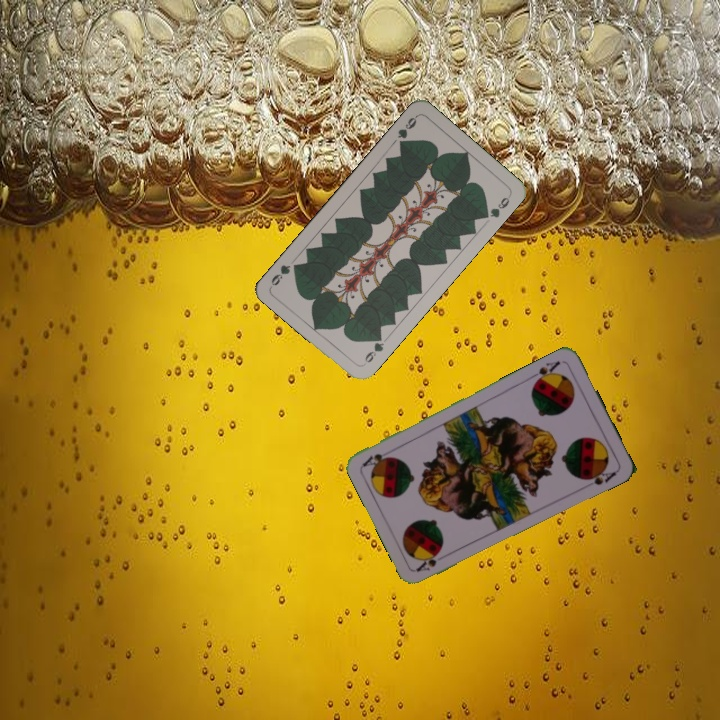G9: (393, 112, 420, 150), (360, 330, 386, 368)
SA: (527, 357, 563, 386), (412, 548, 443, 575)
